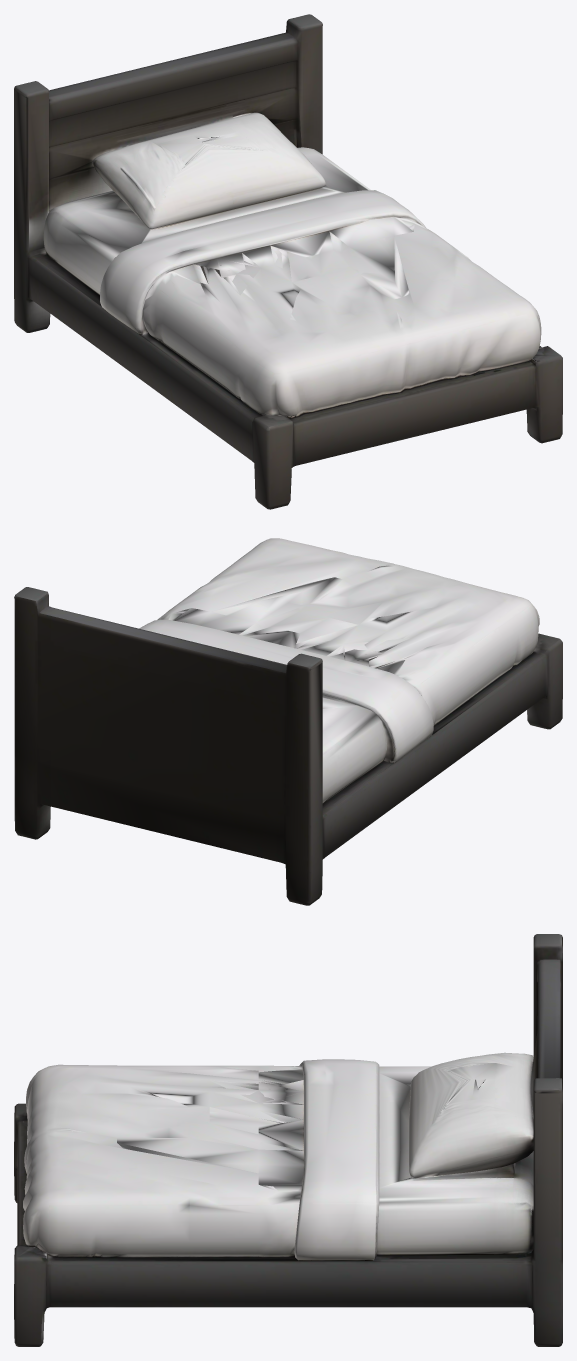
The model's file is single_bed_realistic_style_b83bcfa1_v2.glb.
The picture shows the model from 3 angles, top to bottom: view 1: azimuth 30°, elevation 25°; view 2: azimuth 150°, elevation 25°; view 3: azimuth 270°, elevation 25°; orthographic projection. The views are drawn at different scales.
Visible parts, largest first — view 1: texture_pbr_20250901; view 2: texture_pbr_20250901; view 3: texture_pbr_20250901.
Boxes of the visible parts, x1,y1,x2,y2 form: texture_pbr_20250901: [14, 14, 562, 509]; texture_pbr_20250901: [14, 538, 562, 905]; texture_pbr_20250901: [14, 934, 562, 1346].
Size of the model in its own units: 1.29 by 0.9922 by 1.9.
Materials: 1 (1 with a texture image).
